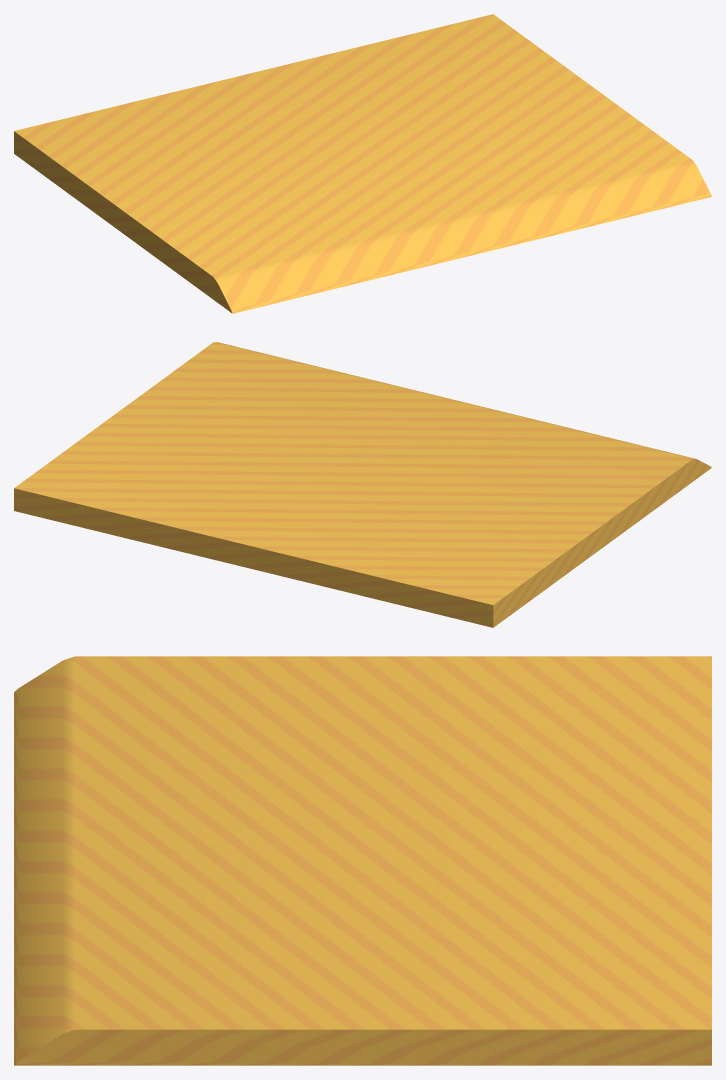
3 views of the same model, one above another, from view 1: azimuth 30°, elevation 25°; view 2: azimuth 150°, elevation 25°; view 3: azimuth 270°, elevation 25° (orthographic). The views are drawn at different scales.
Parts seen in each view (by area): view 1: di; view 2: di; view 3: di.
Part boxes in pixels (<box>): di: <box>14,14,711,313</box>; di: <box>14,342,711,627</box>; di: <box>14,656,711,1065</box>.
Size of the model in its own units: 6540 by 296 by 5169.
